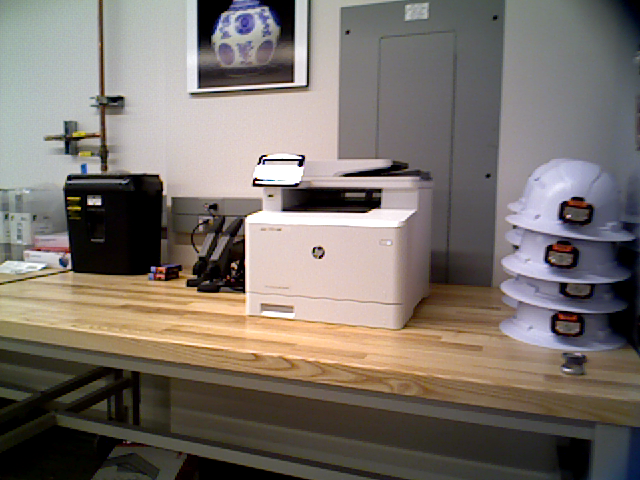painting2: (181, 1, 315, 94)
